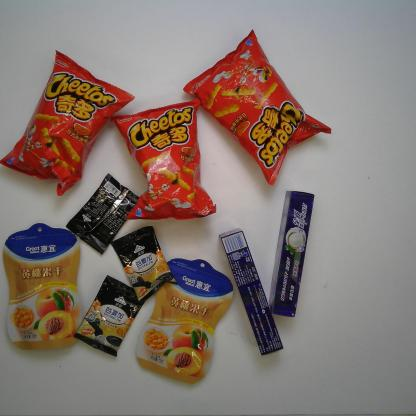Dried Fruit: (133, 254, 234, 384), (1, 220, 85, 355)
Instant Drink: (64, 171, 142, 256), (72, 270, 145, 358), (110, 224, 174, 304)
Personal Hygiene: (219, 226, 286, 358), (265, 189, 317, 320)
Puffed Food: (181, 25, 333, 189), (0, 46, 136, 200), (102, 95, 218, 222)
